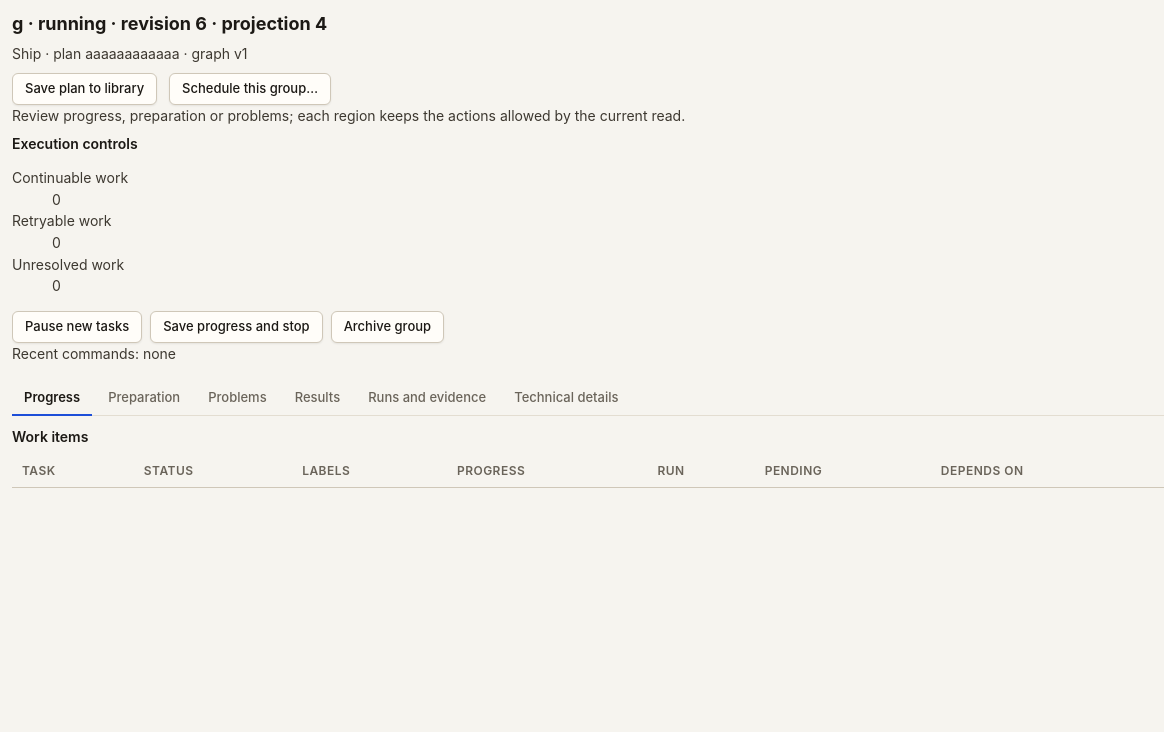
Scenario: Results before completion honestly says not produced and keeps evidence reachable
The image size is (1164, 732).
Step 1. Click the tab "Results" → (317, 399), box [283,381,352,416]
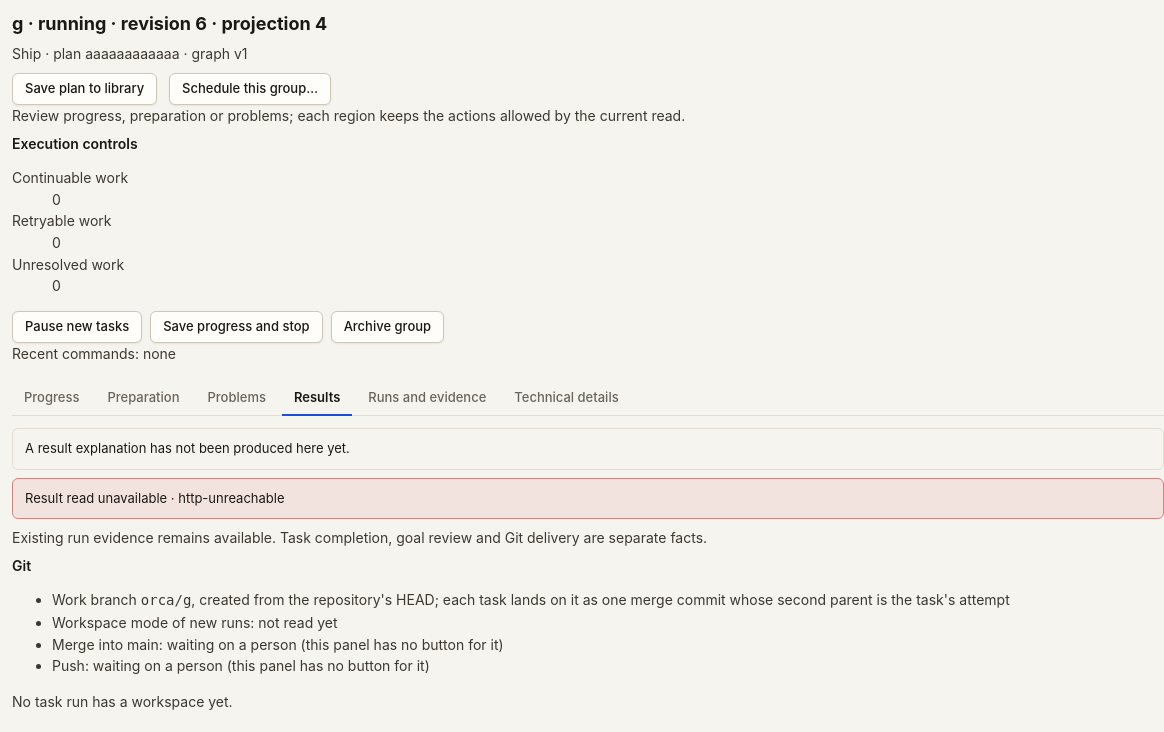
Expected: the message "A result explanation has not been produced here yet." is shown, [12,428,1163,470]
